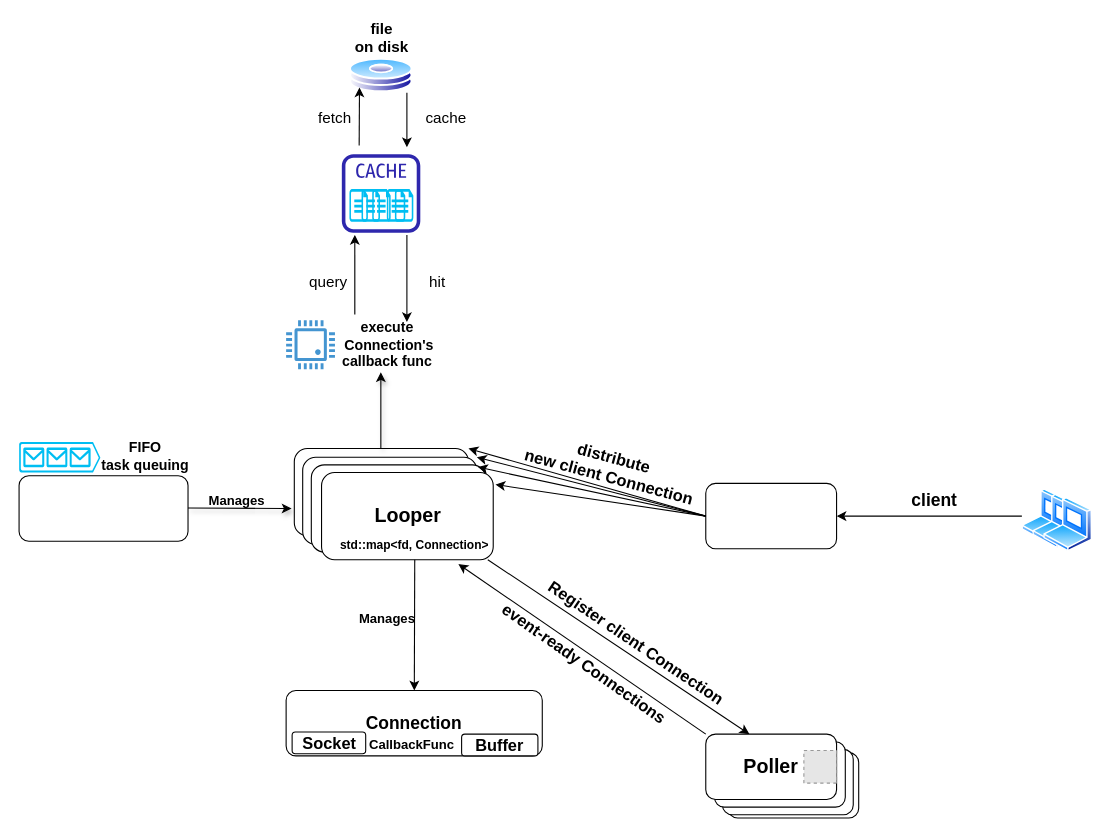
Some shapes in this 1112 by 837 pixel diagram are drawn without their labels. Grey dashed boxes stand in for pictures. The centre of each missing label's shape, as x and y in pixels:
"Acceptor" belongs at pixel 771 515.
"ThreadPool" belongs at pixel 103 508.
